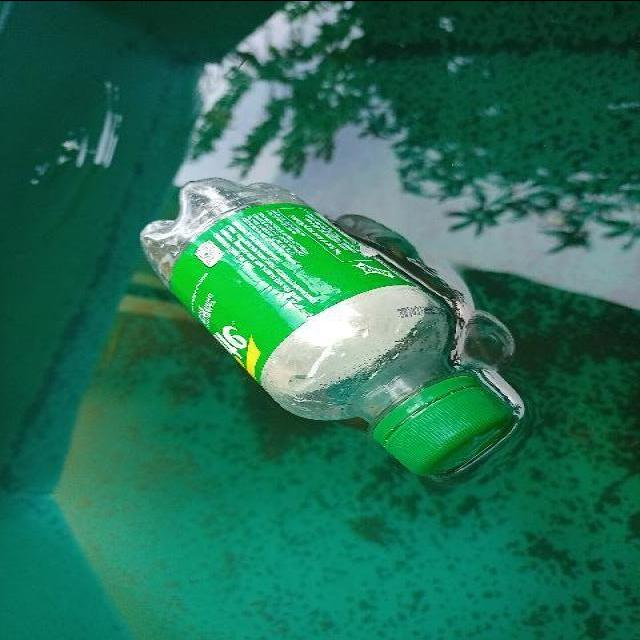Bottle: (136, 172, 531, 480)
